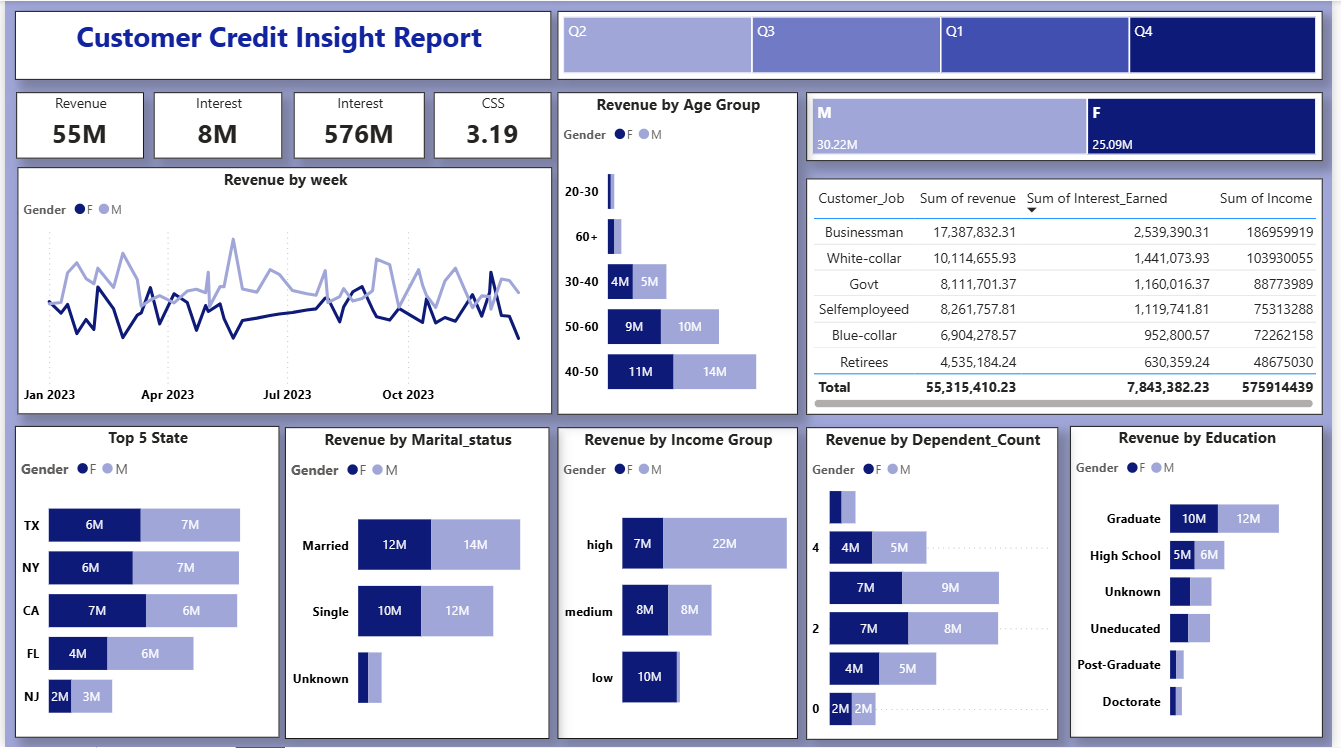

What the dashboard file says about the page in this screenshot:
{"tool":"powerbi","page":{"name":"CC_customer","canvas":[1280,720],"ordinal":1},"visuals":[{"type":"textbox","box":[9.7,9.7,517.6,66.4],"z":0},{"type":"treemap","title":"Client_Num by Qtr","fields":{"Group":["credit_card (2).Qtr"],"Values":["CountNonNull(credit_card (2).Client_Num)"]},"box":[533.2,9.7,738.3,66.4],"z":1000},{"type":"card","title":"Revenue","fields":{"Values":["Sum(credit_card (2).revenue)"]},"box":[10.9,88.1,123.1,63.9],"z":2000},{"type":"card","title":"Interest","fields":{"Values":["Sum(credit_card (2).Interest_Earned)"]},"box":[143.6,88.1,124.3,63.9],"z":3000},{"type":"card","title":"Interest","fields":{"Values":["Sum(customer.Income)"]},"box":[278.7,88.1,126.7,63.9],"z":4000},{"type":"card","title":"CSS","fields":{"Values":["Avg(customer.Cust_Satisfaction_Score)"]},"box":[413.8,88.1,113.4,63.9],"z":5000},{"type":"lineChart","title":"Revenue by week","fields":{"Y":["Sum(credit_card (2).revenue)"],"Series":["customer.Gender"],"Category":["credit_card (2).Week_Start_Date.Variation.Date Hierarchy.Year","credit_card (2).Week_Start_Date.Variation.Date Hierarchy.Month","credit_card (2).Week_Start_Date.Variation.Date Hierarchy.Day"]},"box":[12.3,160.5,516,238.8],"z":6000},{"type":"treemap","title":"revenue by Gender","fields":{"Group":["customer.Gender"],"Values":["Sum(credit_card (2).revenue)"]},"box":[773.3,88.1,498.3,66.4],"z":7000},{"type":"barChart","title":"Revenue by Income Group","fields":{"Y":["Sum(credit_card (2).revenue)"],"Category":["customer.Income Group"],"Series":["customer.Gender"]},"box":[533.8,411.7,231.9,300.5],"z":8000},{"type":"barChart","title":"Revenue by Age Group","fields":{"Y":["Sum(credit_card (2).revenue)"],"Category":["customer.Age Group"],"Series":["customer.Gender"]},"box":[533.8,87.8,231.9,311.5],"z":9000},{"type":"barChart","title":"Revenue by Education","fields":{"Y":["Sum(credit_card (2).revenue)"],"Category":["customer.Education_Level"],"Series":["customer.Gender"]},"box":[1027.8,410.3,244.3,300.5],"z":10000},{"type":"barChart","title":"Top 5 State","fields":{"Y":["Sum(credit_card (2).revenue)"],"Category":["customer.state_cd"],"Series":["customer.Gender"]},"box":[9.6,410.3,255.2,300.5],"z":11000},{"type":"tableEx","fields":{"Values":["customer.Customer_Job","Sum(credit_card (2).revenue)","Sum(credit_card (2).Interest_Earned)","Sum(customer.Income)"]},"box":[773.3,171.3,498.3,228],"z":12000},{"type":"barChart","title":"Revenue by Marital_status","fields":{"Y":["Sum(credit_card (2).revenue)"],"Category":["customer.Marital_Status"],"Series":["customer.Gender"]},"box":[270.3,411.7,255.2,300.5],"z":13000},{"type":"barChart","title":"Revenue by Dependent_Count","fields":{"Y":["Sum(credit_card (2).revenue)"],"Category":["customer.Dependent_Count"],"Series":["customer.Gender"]},"box":[773.9,411.7,242.9,301.9],"z":14000}]}

Visuals, with their boxes in screenshot pixels (x1, y1, x2, y2), scaled from the page's 1280x720 canvas onto the 1341x748 screenshot:
textbox: detection(10, 10, 552, 79)
"Client_Num by Qtr" treemap: detection(559, 10, 1332, 79)
"Revenue" card: detection(11, 92, 140, 158)
"Interest" card: detection(150, 92, 281, 158)
"Interest" card: detection(292, 92, 425, 158)
"CSS" card: detection(434, 92, 552, 158)
"Revenue by week" lineChart: detection(13, 167, 553, 415)
"revenue by Gender" treemap: detection(810, 92, 1332, 161)
"Revenue by Income Group" barChart: detection(559, 428, 802, 740)
"Revenue by Age Group" barChart: detection(559, 91, 802, 415)
"Revenue by Education" barChart: detection(1077, 426, 1333, 738)
"Top 5 State" barChart: detection(10, 426, 277, 738)
tableEx - customer.Customer_Job x Sum(credit_card (2).revenue): detection(810, 178, 1332, 415)
"Revenue by Marital_status" barChart: detection(283, 428, 551, 740)
"Revenue by Dependent_Count" barChart: detection(811, 428, 1065, 741)
